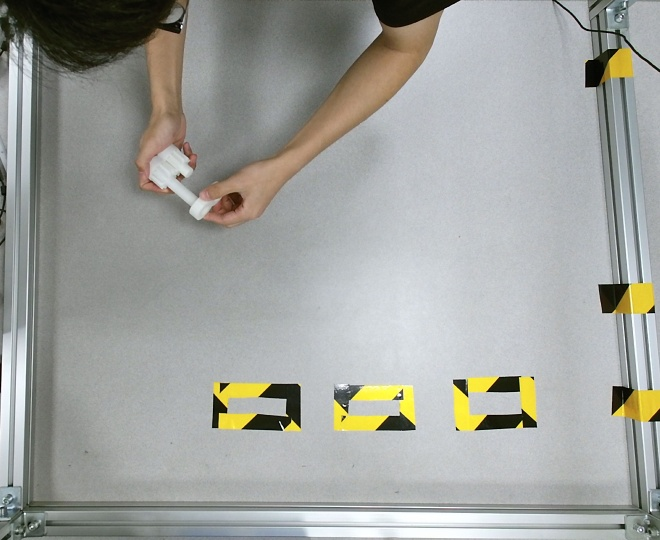stage_3: (150, 144, 198, 206)
